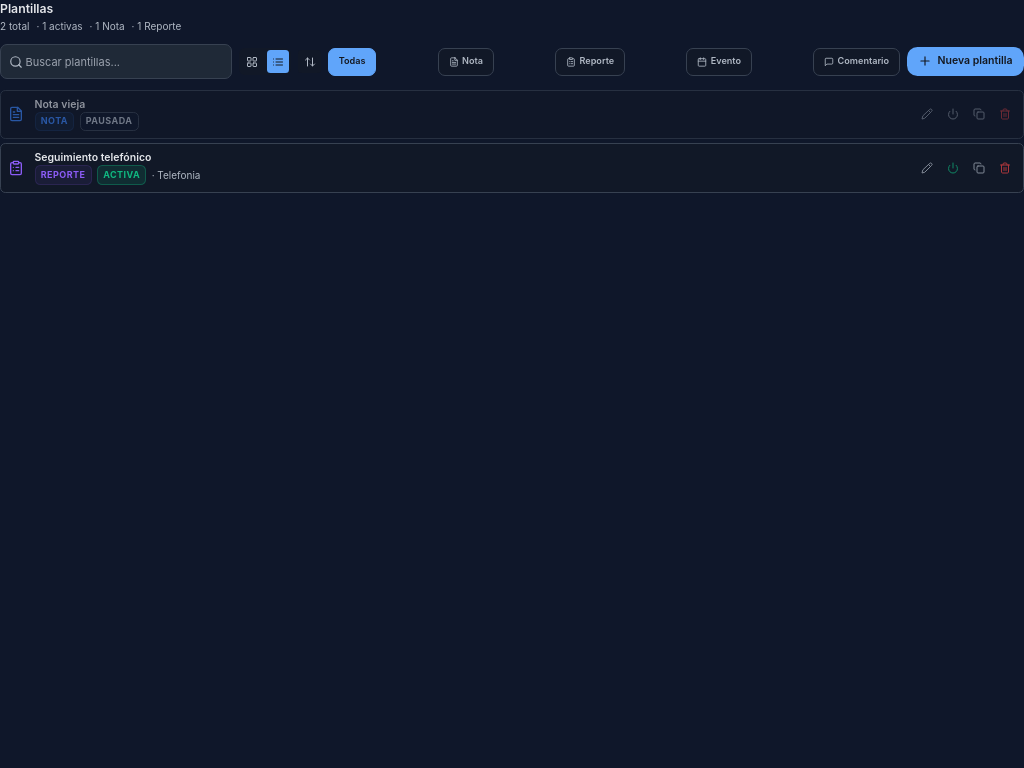
Test: PlantillasView (1.10.1 — rediseño) › desde la vista previa, "Editar" abre el form (con el selector de estado en reportes)
This screenshot has width=1024, height=768.
Step 1. Click the text "Seguimiento telefónico" → click(93, 157), box [34,151,151,164]
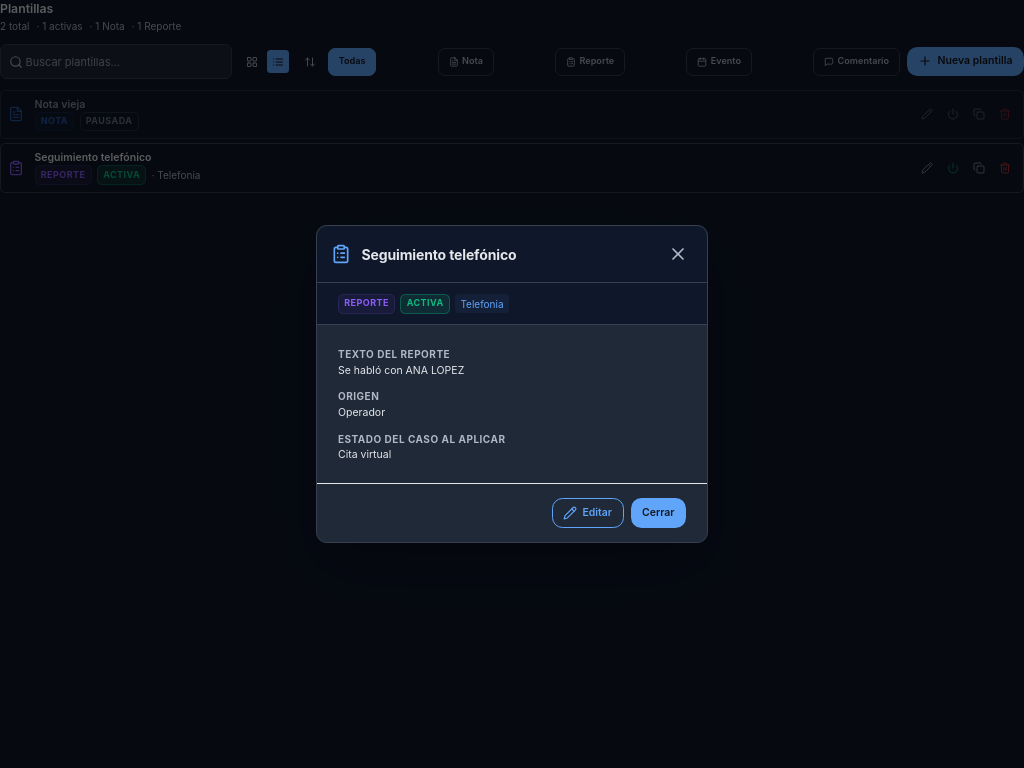
Step 2. Click the button "Editar" → click(588, 513), box [552,498,624,528]
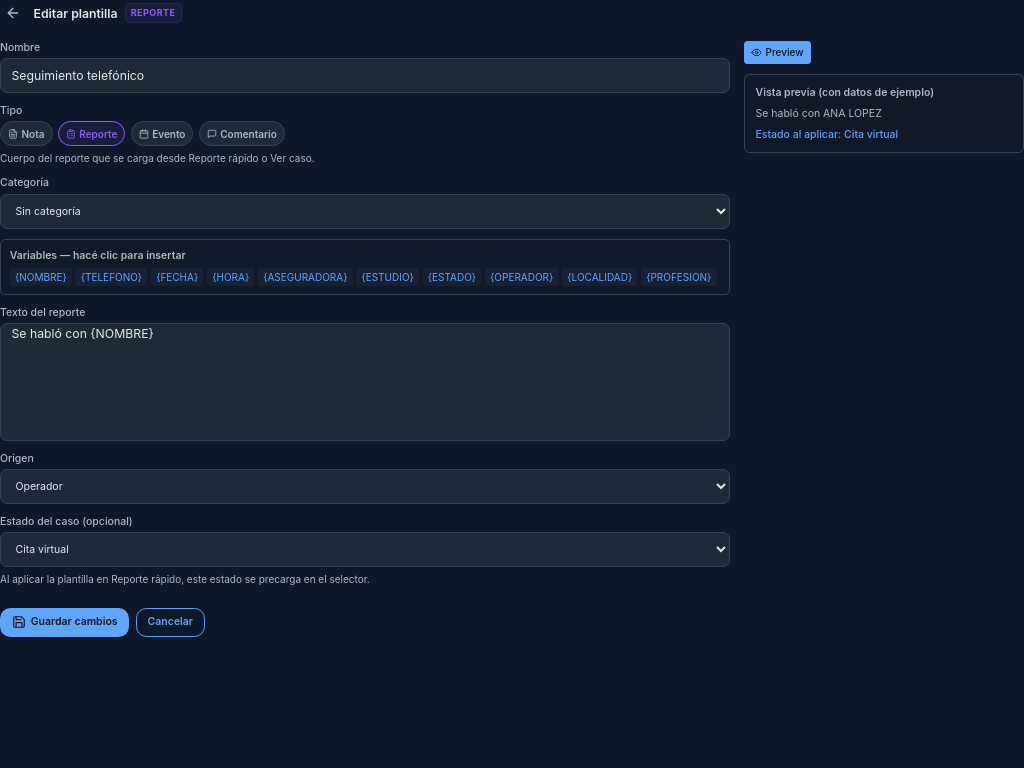
Result: the heading "Editar plantilla" is shown at [34,4,118,22]
Result: the text "Estado del caso (opcional)" is shown at [0,515,133,528]
